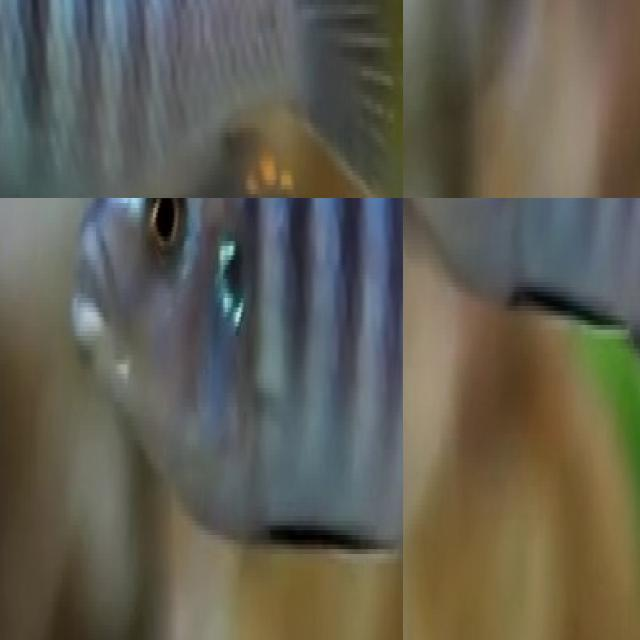fish: (0, 198, 403, 615), (0, 0, 403, 198)
